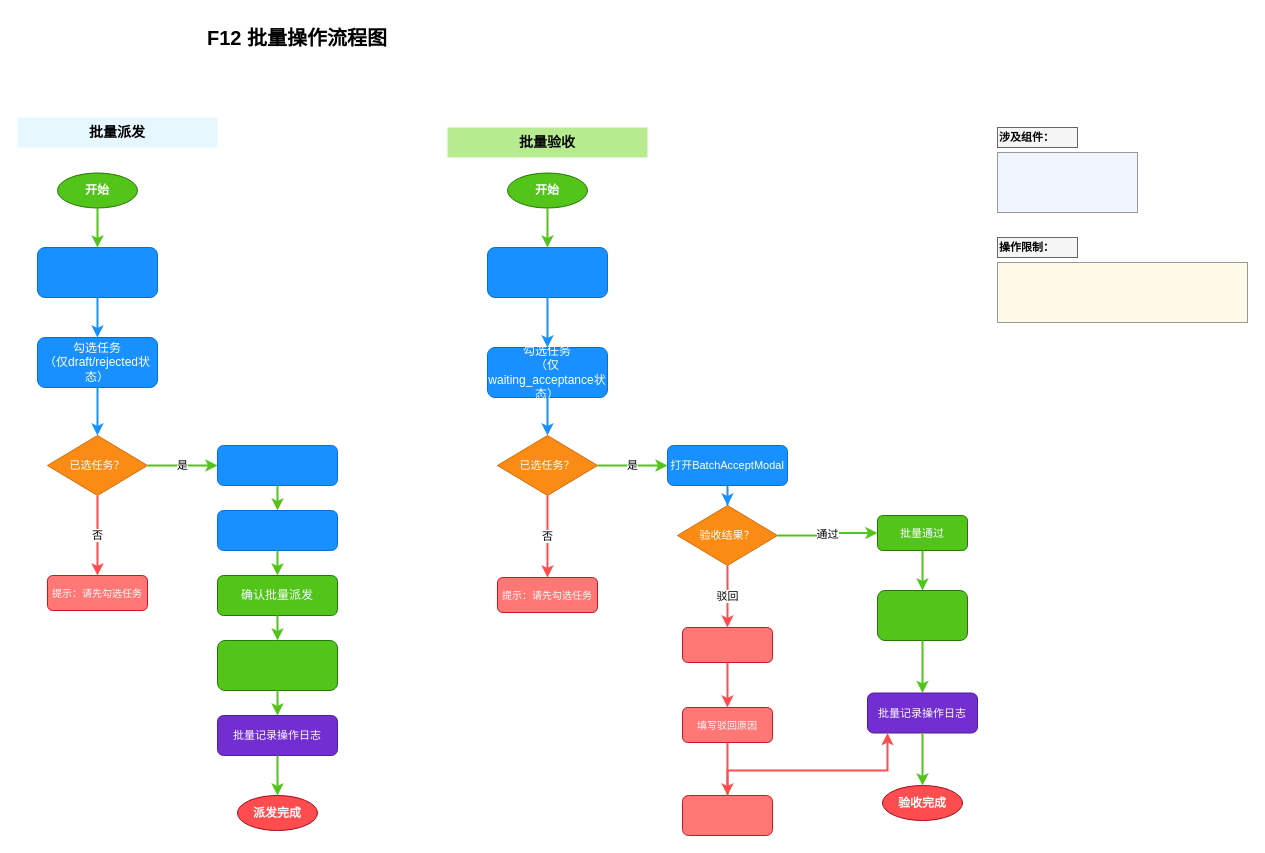
This 1265x853 diagram has some shape labels left out. Each missing label, with the centre of its shape:
TaskTab BatchDispatchModal BatchAcceptModal useTasks: point 1067,182
TaskTab点击 【批量派发】: point 97,272
TaskTab点击 【批量验收】: point 547,272
打开BatchDispatchModal: point 277,465
批量更新状态 draft/rejected → pending: point 277,665
批量派发：仅支持draft/rejected状态 批量验收：仅支持waiting_acceptance状态 驳回后状态由rejected次数决定: point 1122,292
批量驳回: point 727,644
状态→completed 自动创建WorkLog: point 922,615
状态→rejected/failed: point 727,815
选择执行人: point 277,530
